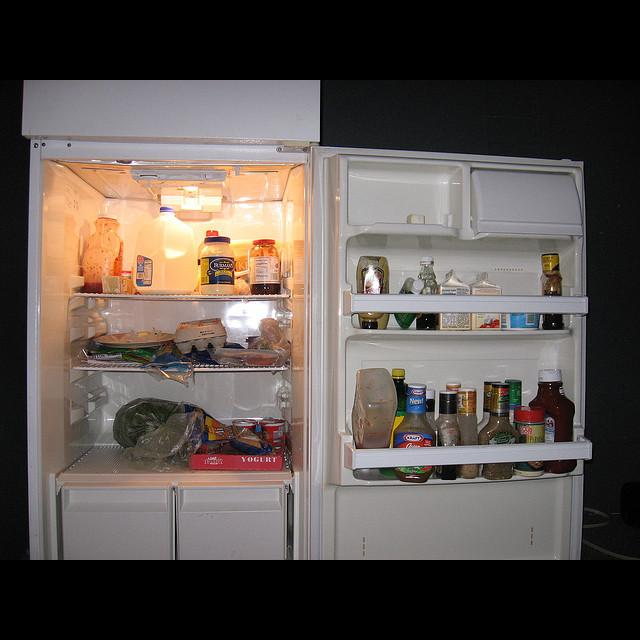Refrigerator: (25, 80, 580, 554)
